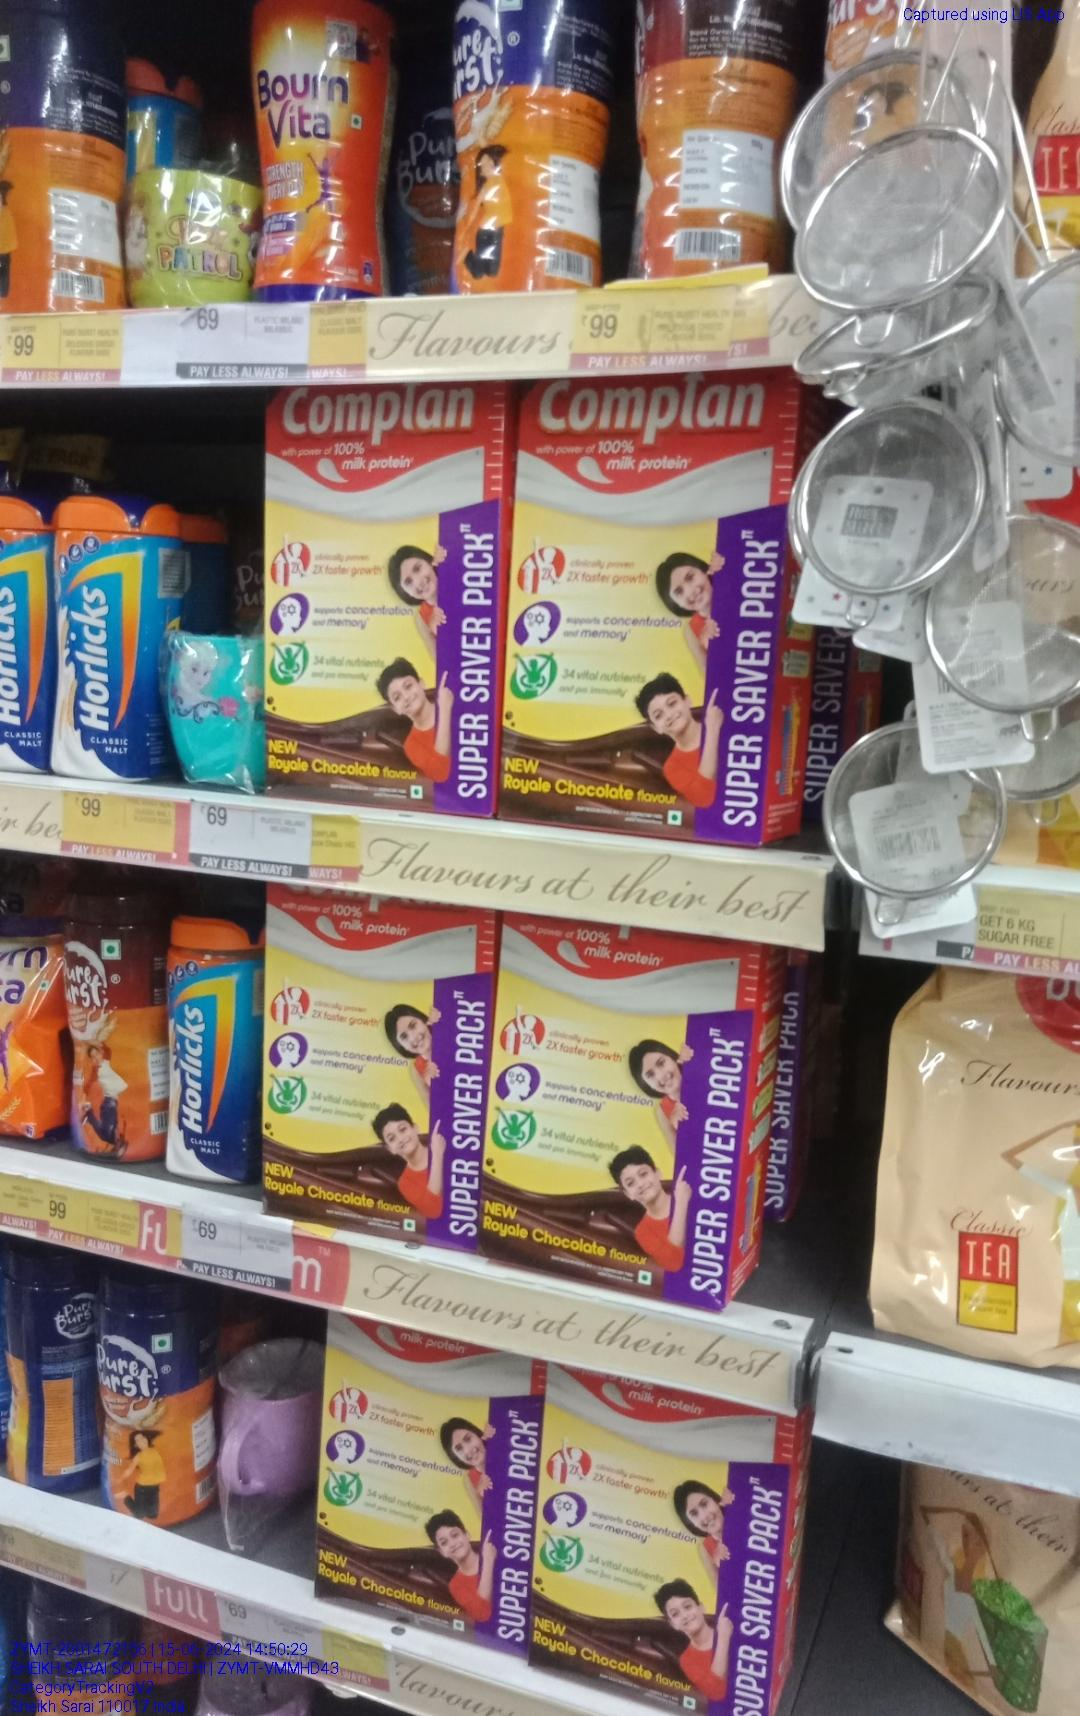COMPLAN_CHOCOLATE_1_KG_PACK: (510, 383, 770, 830), (265, 385, 499, 814), (493, 922, 729, 1287), (544, 1369, 780, 1712), (263, 882, 482, 1223), (317, 1314, 528, 1650)
HORLICK_CLASSIC_MALT_500_G_JAR: (51, 493, 161, 775), (163, 912, 256, 1183)
